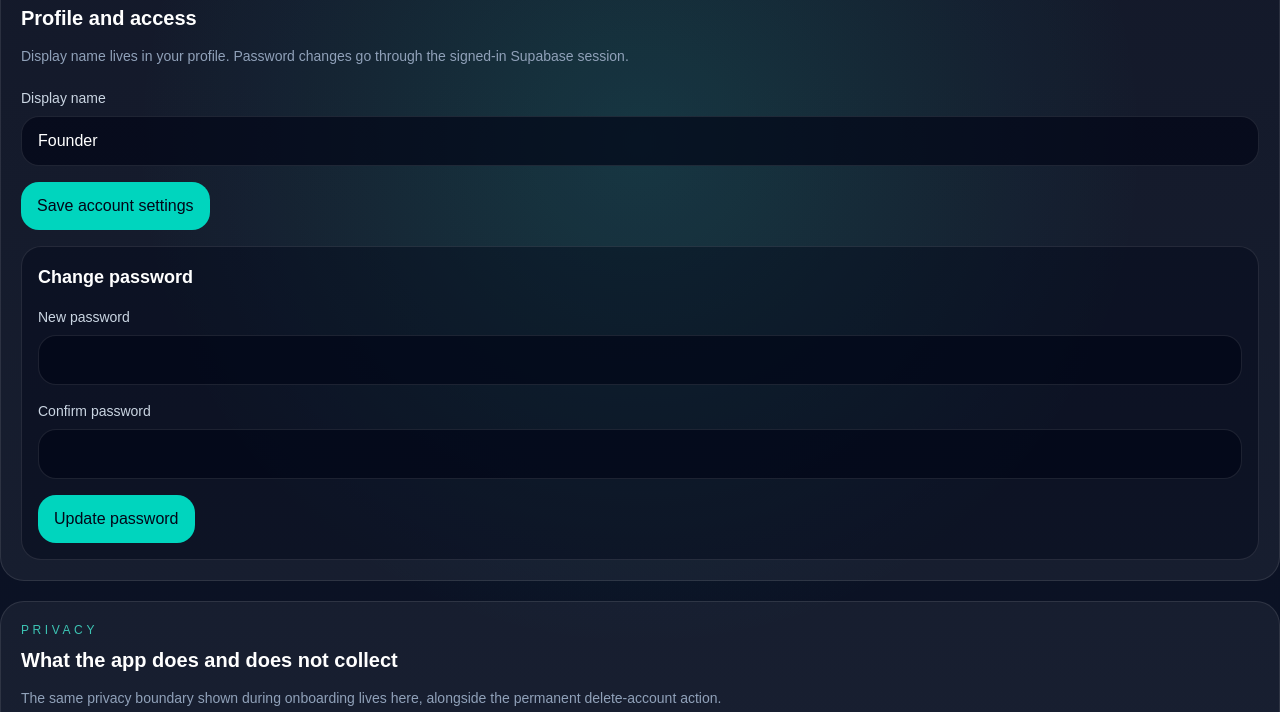
Test: Settings › blocks password changes when the new password is too short
(page scrolled)
In the password field labelled "New password": {"x": 640, "y": 360} [38,335,1242,385], type "short"
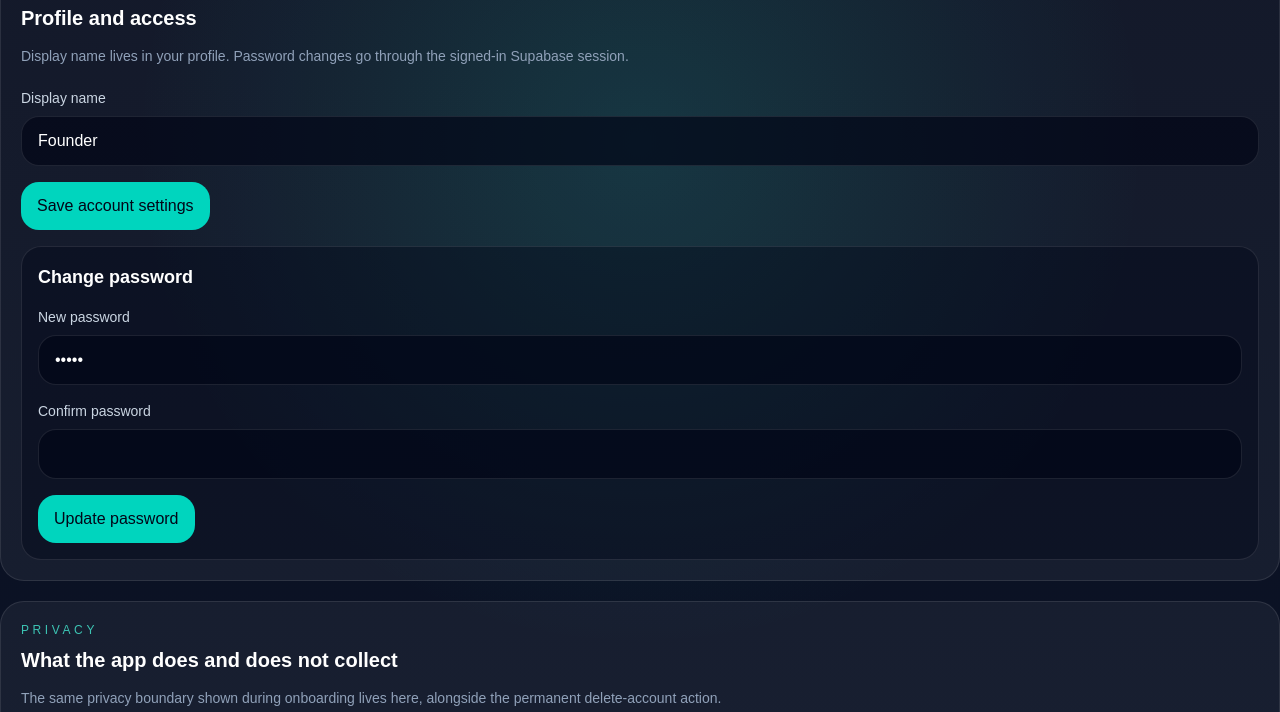
In the password field labelled "Confirm password": {"x": 640, "y": 454} [38,429,1242,479], type "short"
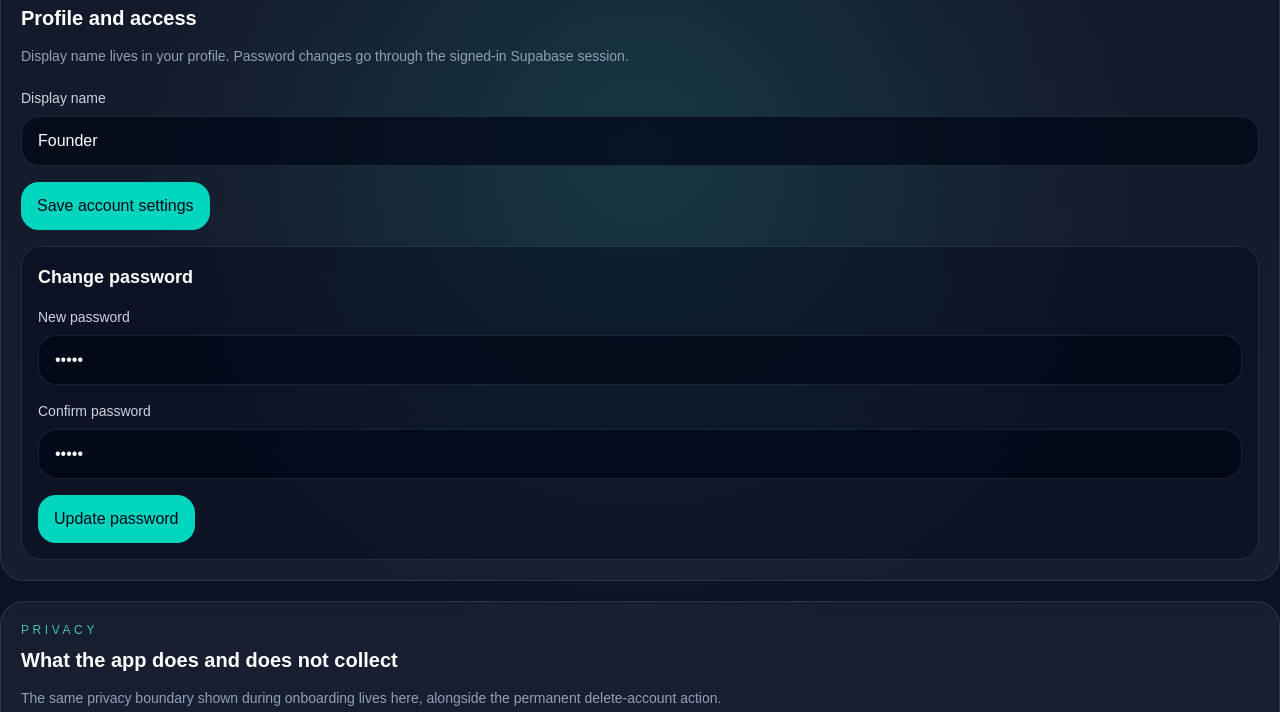
Click the button "Update password": {"x": 116, "y": 519} [38,495,194,543]
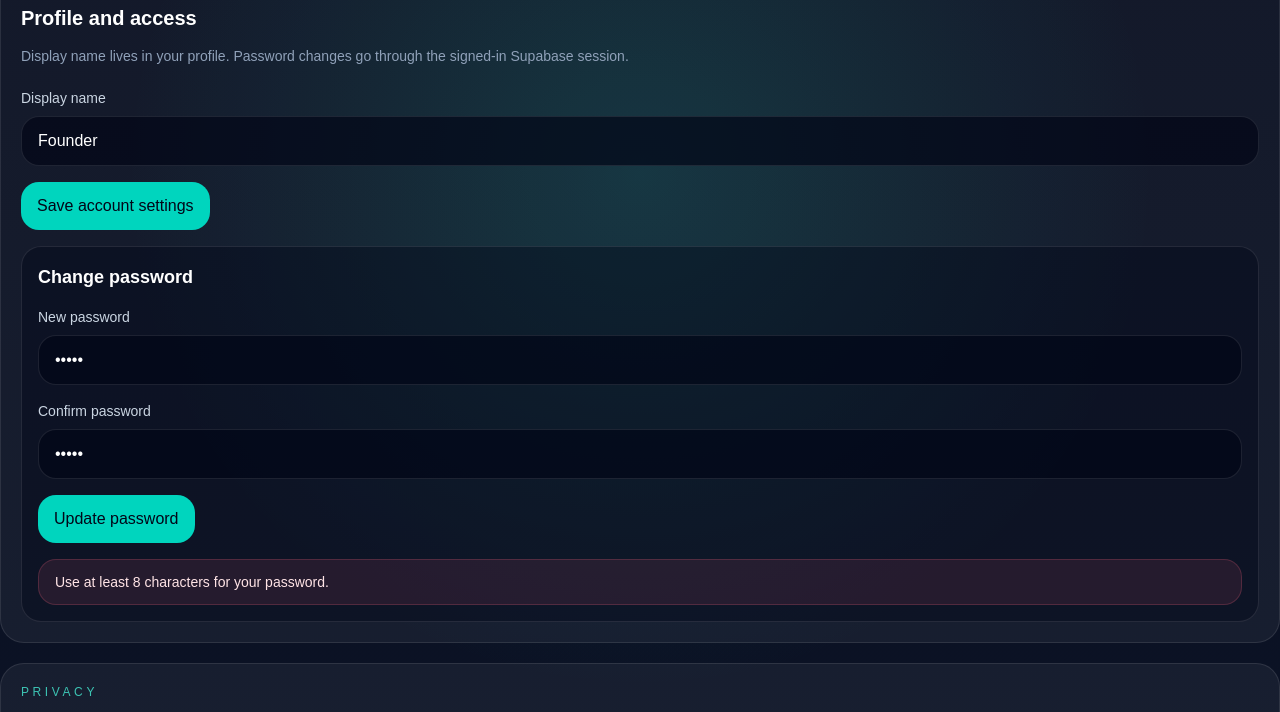
Expected: the message reads "Use at least 8 characters for your password.", [55,574,329,590]
